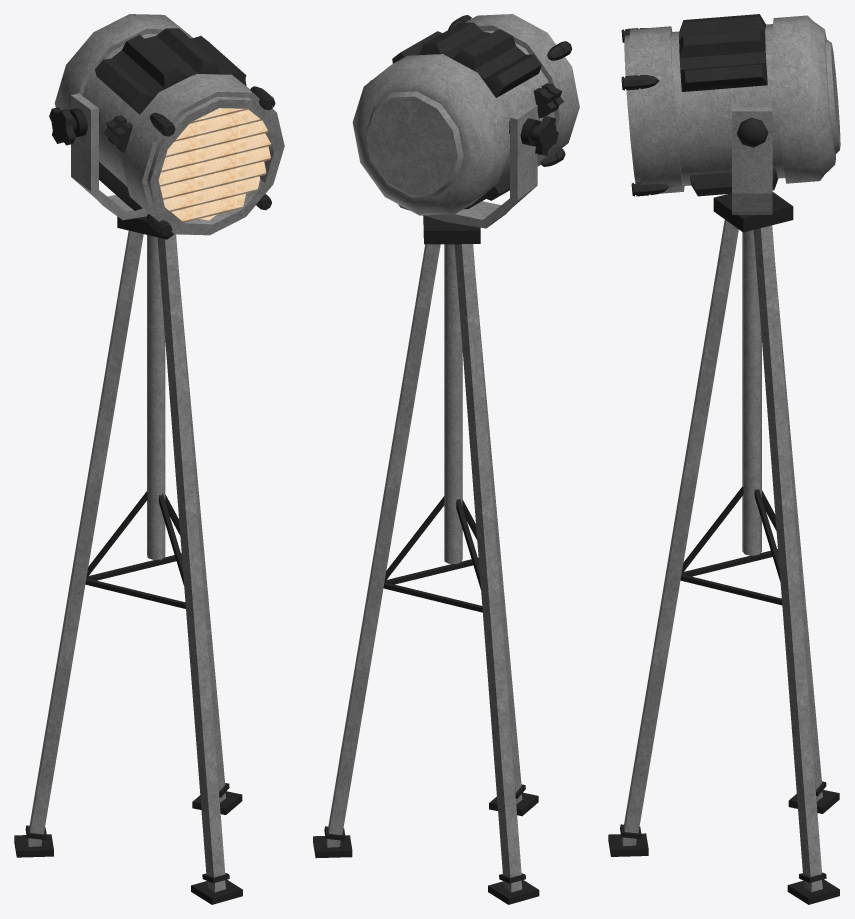
Rendered from Projector_Tripod.FBX.
The picture shows the model from 3 angles, left to right: view 1: azimuth 30°, elevation 25°; view 2: azimuth 150°, elevation 25°; view 3: azimuth 270°, elevation 25°; orthographic projection. The views are drawn at different scales.
Visible parts, largest first — view 1: Projector_Tripod, Projector_Tripod_Lamp, Projector_Tripod_Rotator; view 2: Projector_Tripod, Projector_Tripod_Lamp, Projector_Tripod_Rotator; view 3: Projector_Tripod, Projector_Tripod_Lamp, Projector_Tripod_Rotator.
Boxes of the visible parts, left/top/right/bottom form: Projector_Tripod: left=14, top=216, right=242, bottom=904; Projector_Tripod_Lamp: left=49, top=14, right=284, bottom=236; Projector_Tripod_Rotator: left=71, top=93, right=148, bottom=220; Projector_Tripod: left=313, top=215, right=539, bottom=904; Projector_Tripod_Lamp: left=352, top=14, right=579, bottom=215; Projector_Tripod_Rotator: left=398, top=103, right=537, bottom=228; Projector_Tripod: left=608, top=192, right=839, bottom=904; Projector_Tripod_Lamp: left=621, top=14, right=840, bottom=196; Projector_Tripod_Rotator: left=732, top=107, right=772, bottom=214.
Bounding box in the file's own units: 54.82 × 188 × 47.9.
